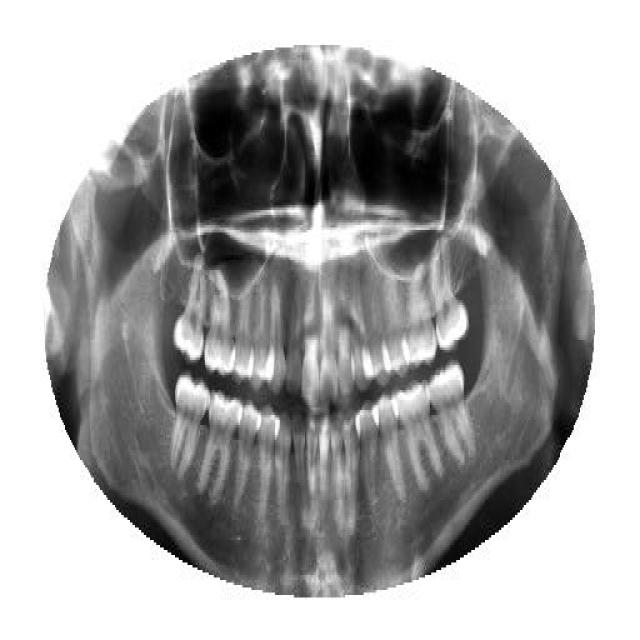Fillings: (200, 390, 241, 502), (430, 245, 469, 350), (402, 260, 437, 368), (204, 270, 236, 378), (376, 395, 406, 503), (172, 270, 206, 362), (382, 265, 407, 383), (234, 402, 261, 502), (356, 400, 379, 510), (259, 395, 280, 513), (264, 285, 285, 397), (232, 280, 252, 382)
